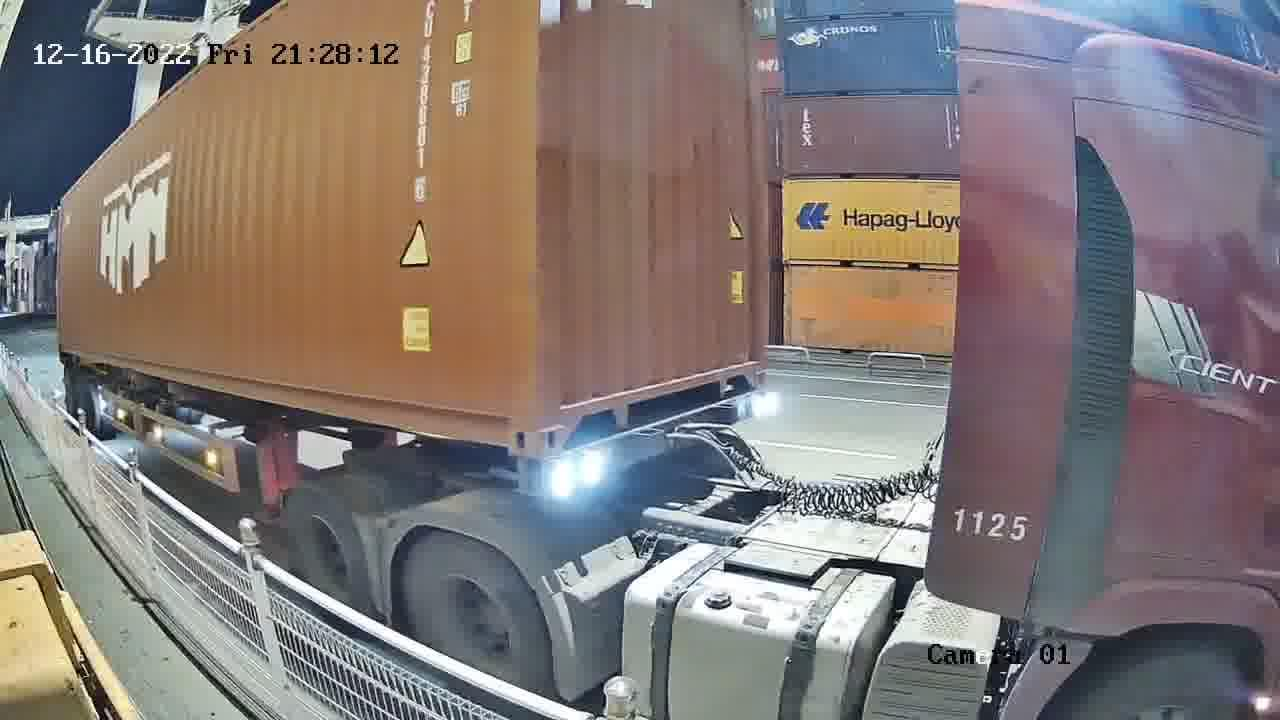Chassis: (544, 390, 766, 503)
Cone: (516, 458, 547, 499)
Hole_L: (540, 380, 597, 458)
Hole_R: (476, 382, 540, 455)
Tire: (405, 539, 549, 690), (288, 490, 368, 613)
